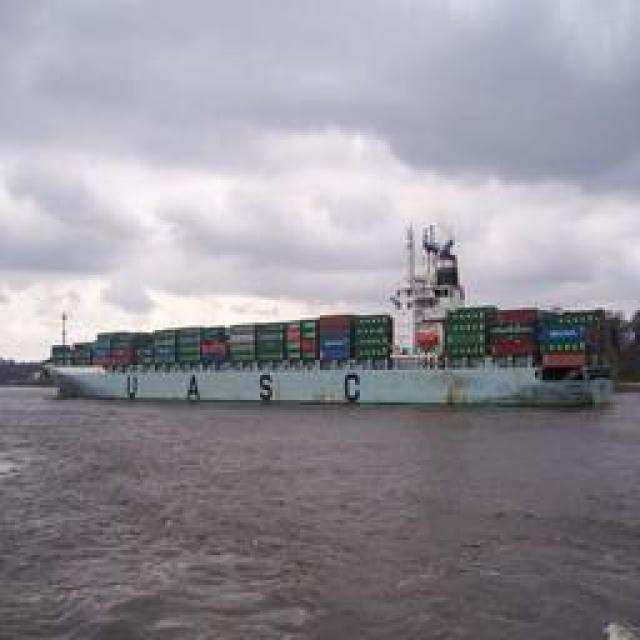Ship: (31, 215, 627, 419)
